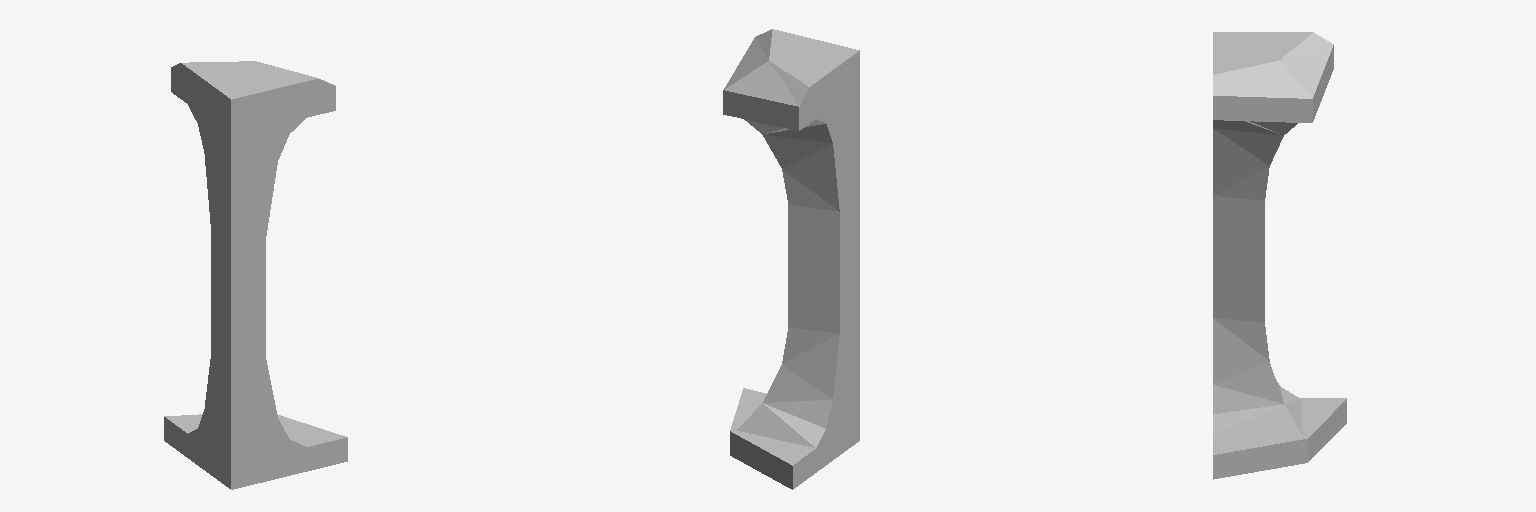
File: cliff_corner.obj
The picture shows the model from 3 angles: view 1: azimuth 30°, elevation 25°; view 2: azimuth 150°, elevation 25°; view 3: azimuth 270°, elevation 25°; orthographic projection.
Parts seen in each view (by area): view 1: object1.007; view 2: object1.007; view 3: object1.007.
Part boxes in pixels (x1,y1,x2,y2): object1.007: (164,61,347,489); object1.007: (723,29,859,489); object1.007: (1213,32,1346,479).
Bounding box in the file's own units: 1 × 3.2 × 1.